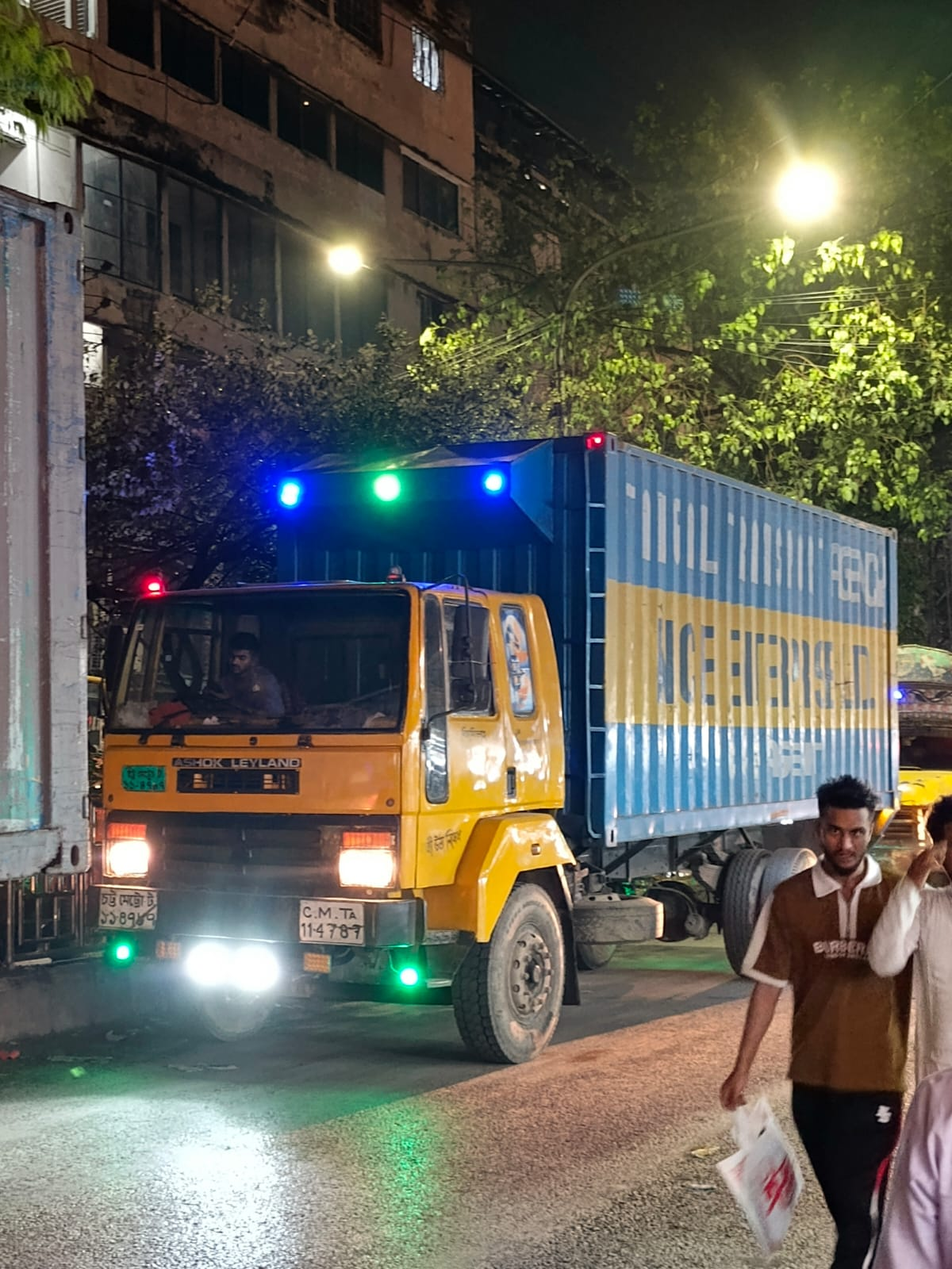Truck: (87, 406, 918, 1070)
